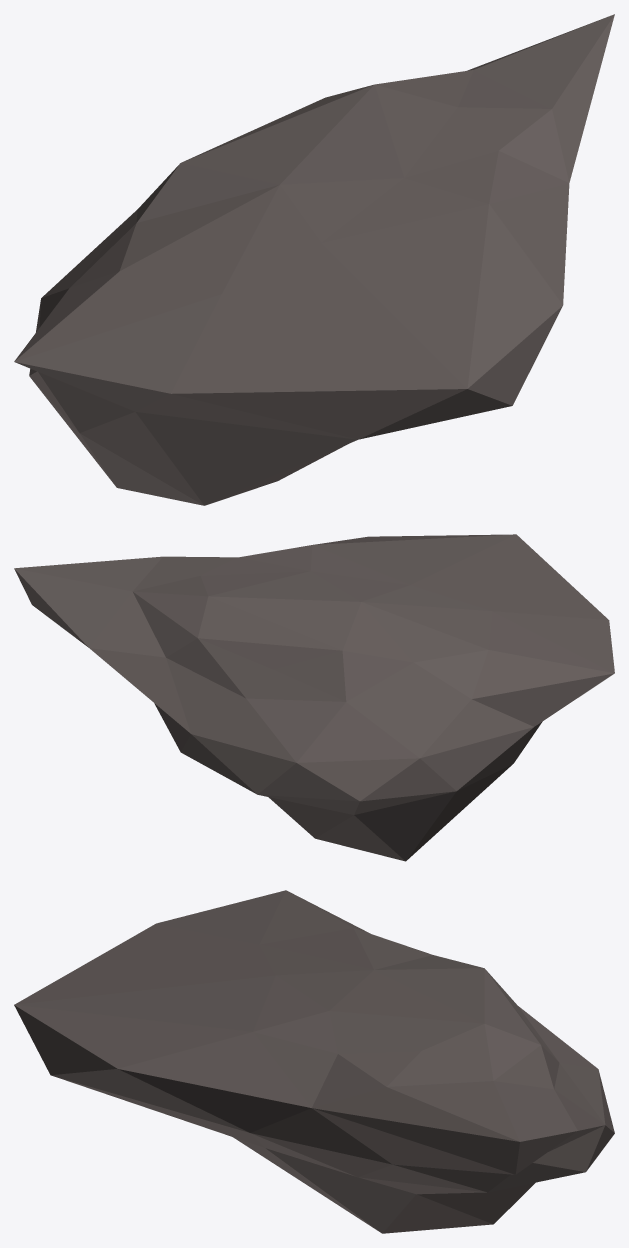
Rendered from Rock 8.fbx.
3 renders of one model, top to bottom at view 1: azimuth 30°, elevation 25°; view 2: azimuth 150°, elevation 25°; view 3: azimuth 270°, elevation 25°, orthographic. The views are drawn at different scales.
Parts seen in each view (by area): view 1: Rock 8; view 2: Rock 8; view 3: Rock 8.
Part boxes in pixels (x1,y1,x2,y2): Rock 8: [14, 14, 614, 505]; Rock 8: [14, 534, 614, 861]; Rock 8: [14, 890, 614, 1233].
Bounding box in the file's own units: 207 × 88.17 × 168.
